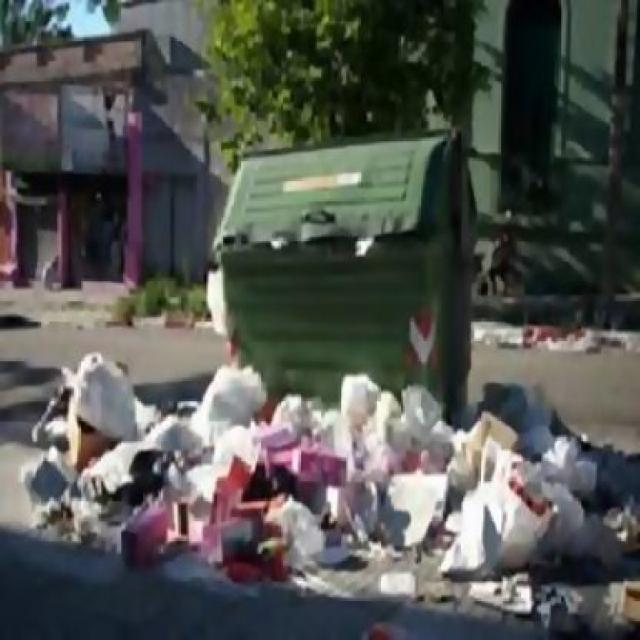garbage: (34, 346, 577, 606)
